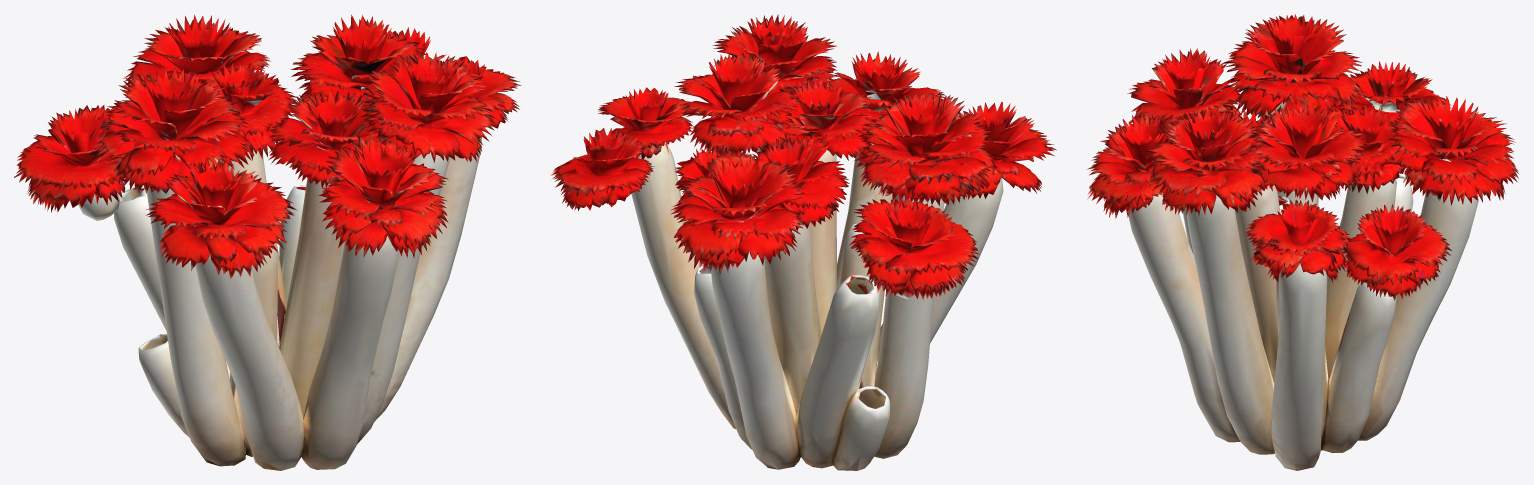
The picture shows the model from 3 angles, left to right: view 1: azimuth 30°, elevation 25°; view 2: azimuth 150°, elevation 25°; view 3: azimuth 270°, elevation 25°; orthographic projection. The views are drawn at different scales.
Visible parts, largest first — view 1: tube; view 2: tube; view 3: tube.
Boxes of the visible parts, box(x1,y1,x2,y2) form: tube: box(14, 14, 520, 470); tube: box(551, 14, 1056, 470); tube: box(1087, 14, 1518, 470).
Size of the model in its own units: 1 by 0.8309 by 0.9091.
Materials: 1 (1 with a texture image).
